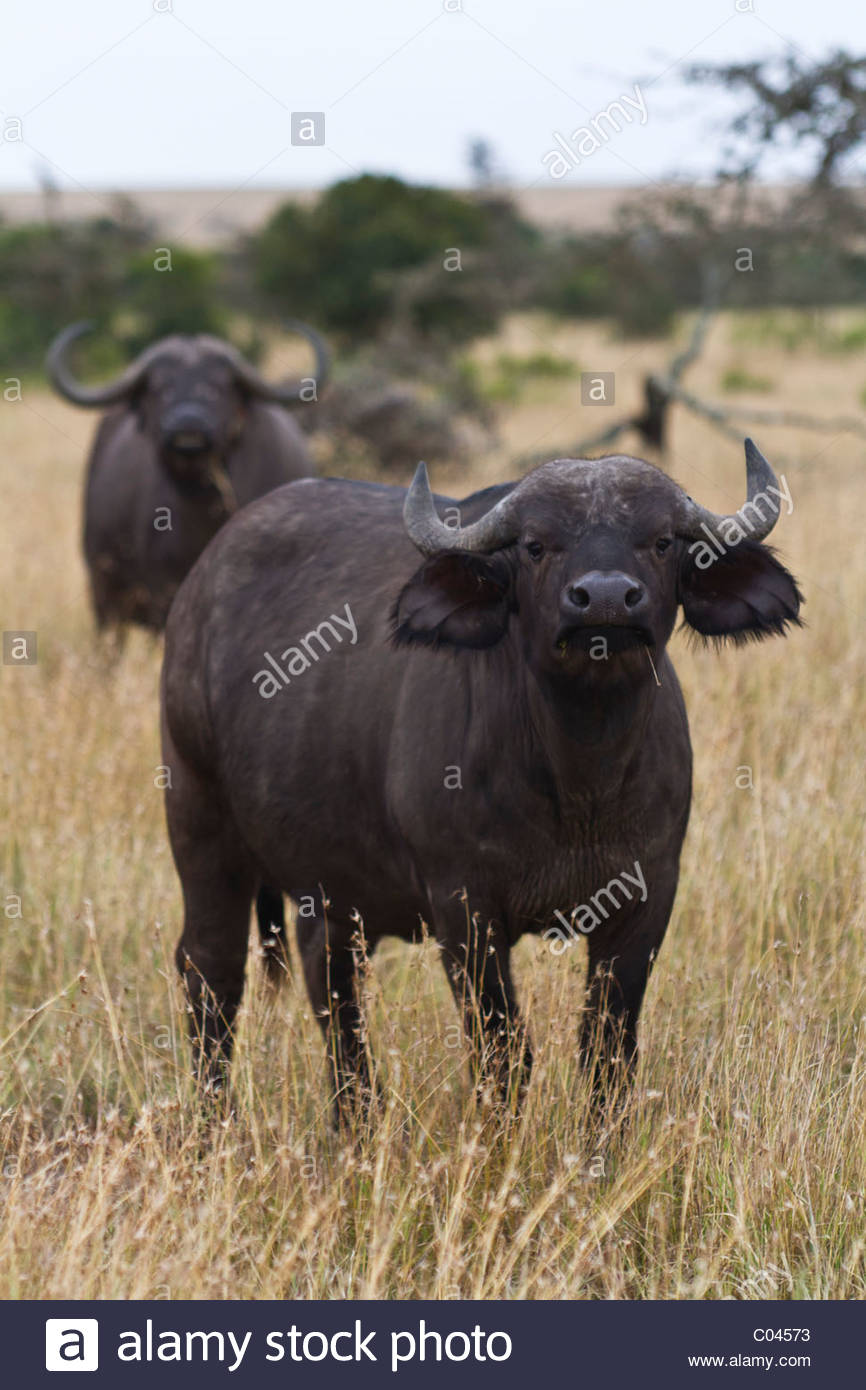buffalo: (161, 447, 794, 1121), (37, 312, 324, 658)
